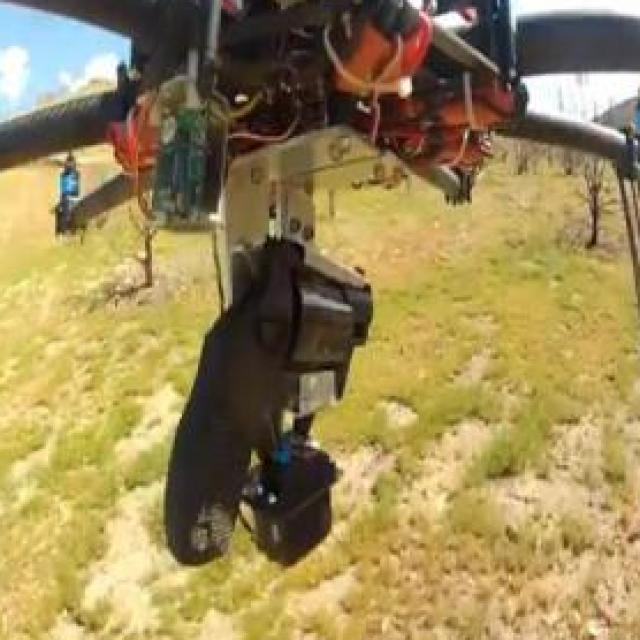pistol: (161, 265, 368, 580)
